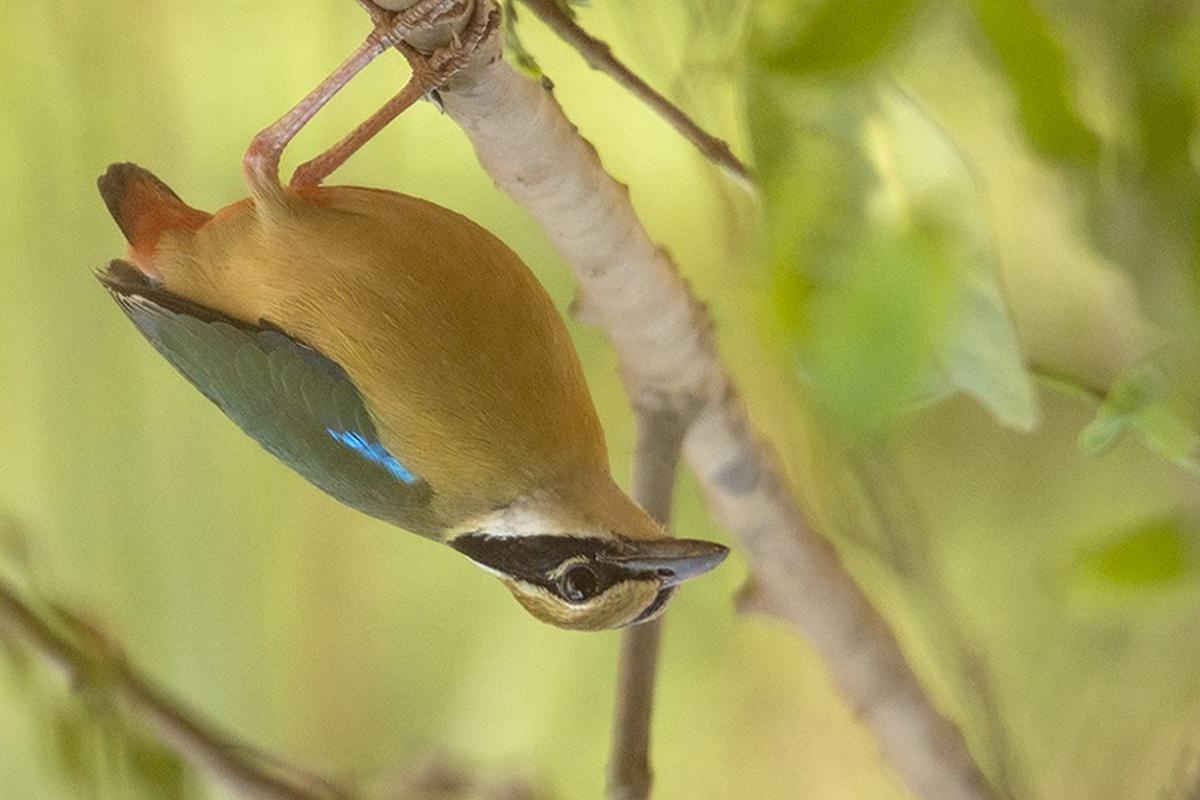pitta: (85, 104, 763, 650)
